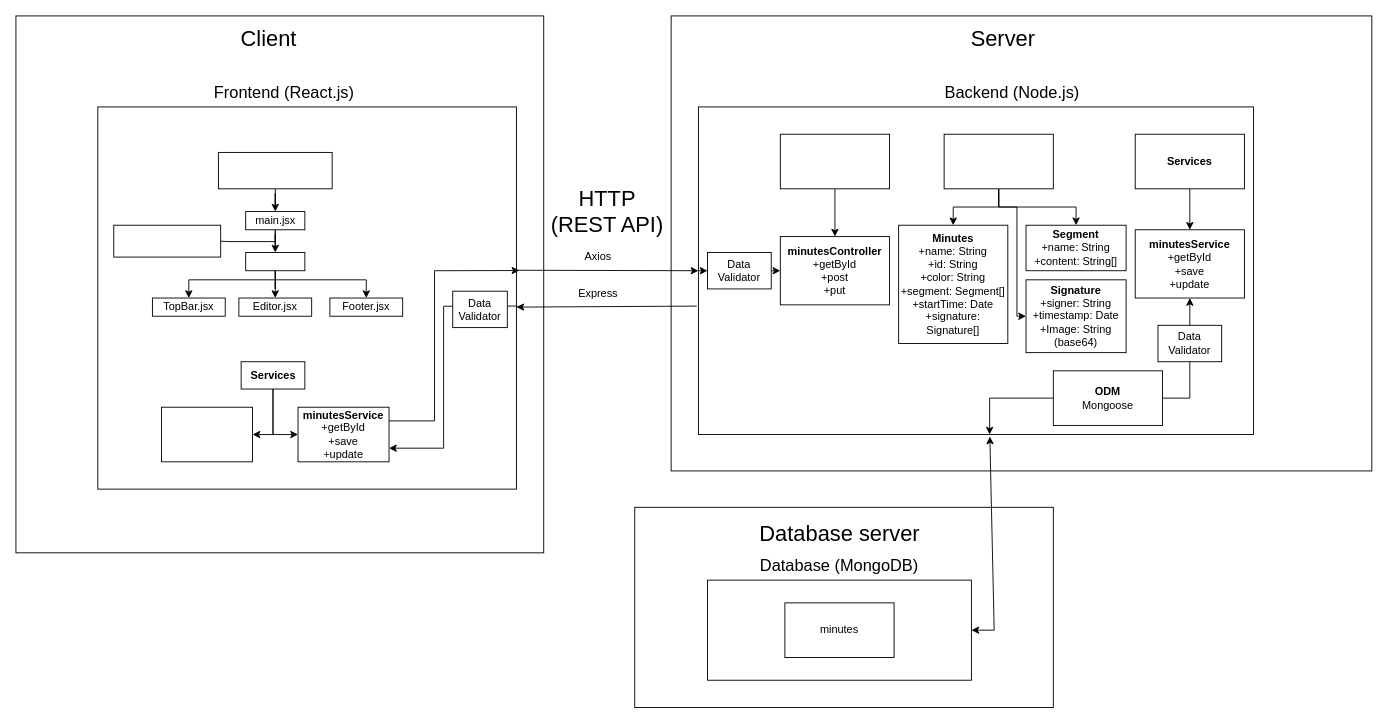
This 1388x723 diagram has some shape labels left out. The shapes that lost their labels are listed below. From the top down, each one's centre as x and y in pixels, then its label:
the point at 274,170: Components
the point at 834,161: Controllers
the point at 998,161: Models
the point at 167,240: State Management: React ContextAPI
the point at 275,261: App.jsx
the point at 207,434: fileService +printFile +downloadFile
